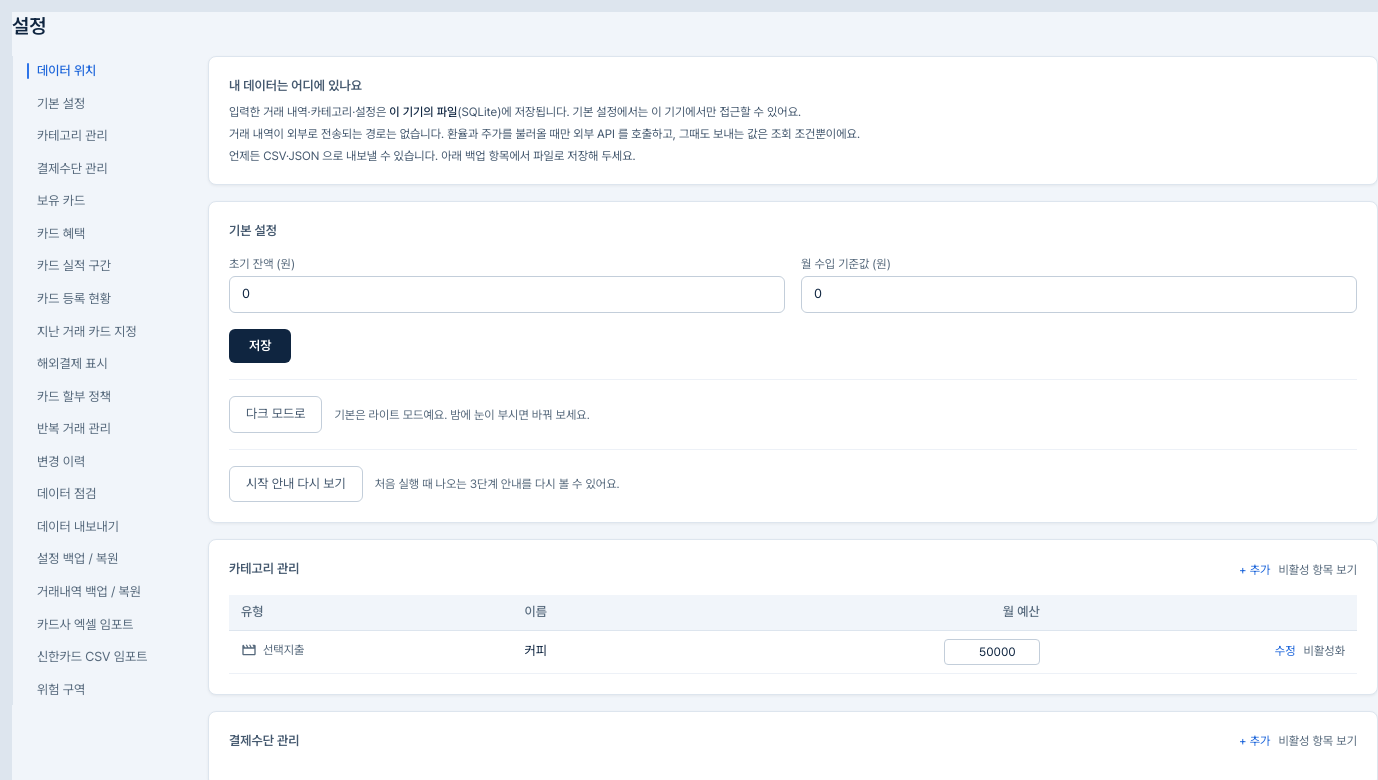
Test: 카테고리 추가 › 유형 기본값은 선택지출이다
Click the 1st button "+ 추가".
click(1255, 570)  # box x1=1239 y1=562 x2=1270 y2=578
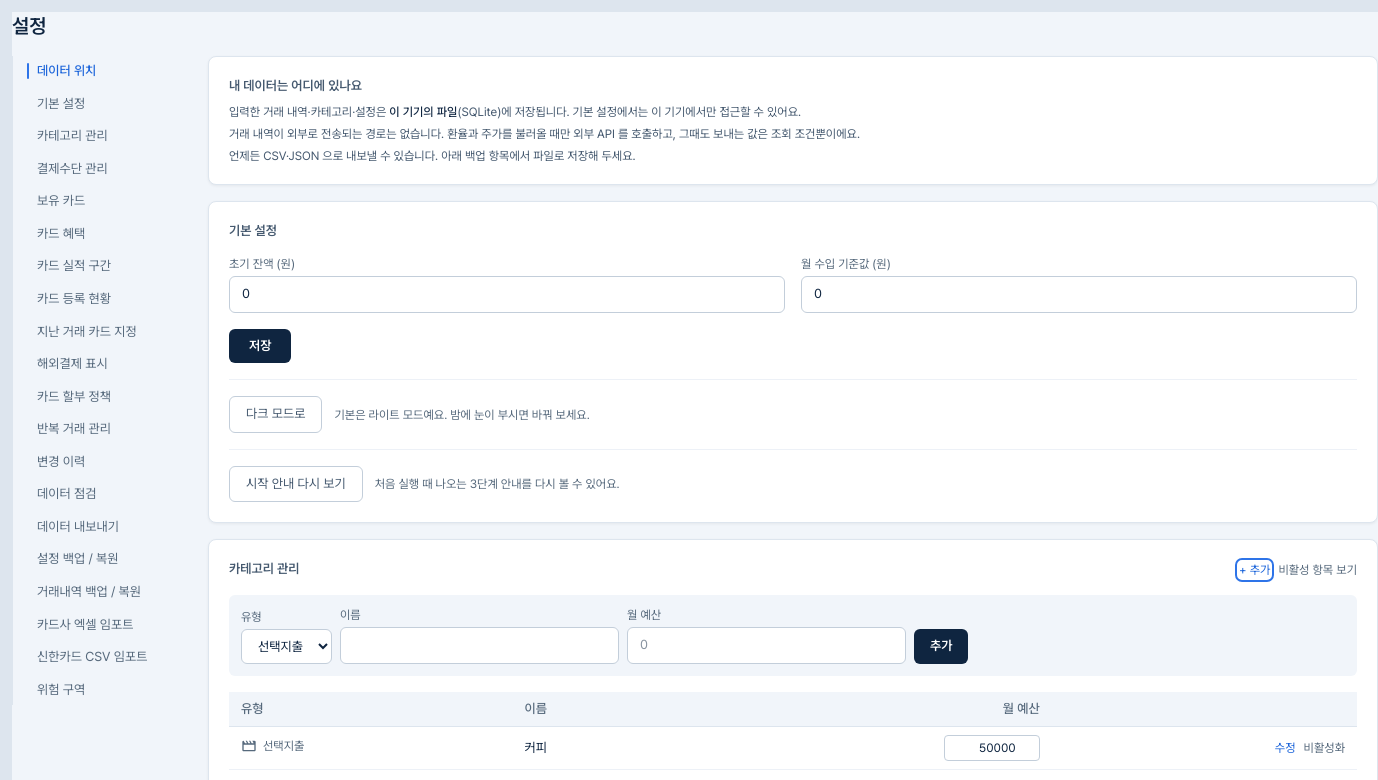
Check: the dropdown labelled "유형" shows "선택지출", box x1=241 y1=628 x2=332 y2=664
